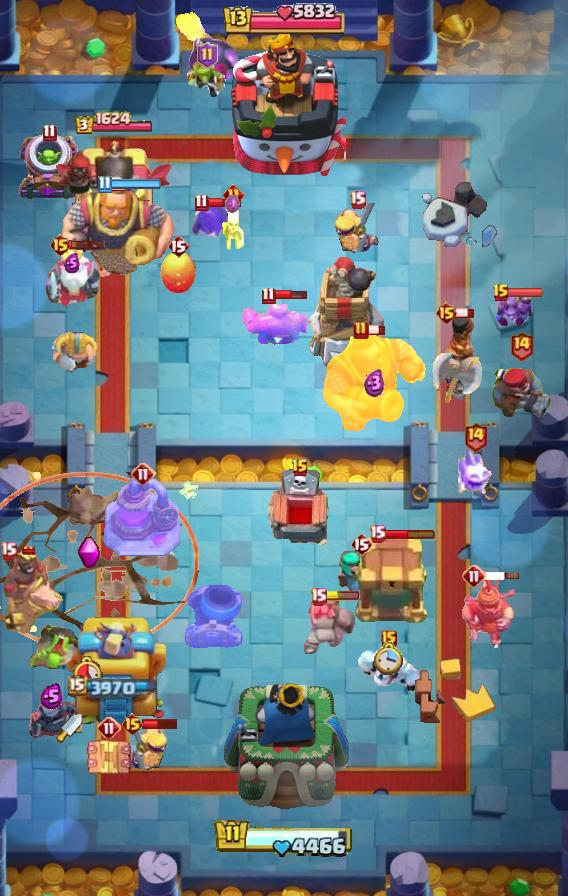axe: (431, 353, 483, 405)
bar: (383, 528, 436, 540), (110, 179, 161, 189), (142, 717, 179, 730), (207, 196, 242, 209), (69, 239, 106, 251), (273, 289, 308, 301), (508, 287, 544, 298), (324, 591, 360, 601), (484, 571, 520, 581), (366, 324, 386, 336), (455, 307, 475, 319)
bar-level: (463, 421, 488, 452), (509, 330, 534, 361), (97, 716, 121, 740), (462, 564, 486, 588), (131, 462, 155, 486), (121, 712, 144, 736), (435, 301, 458, 325), (49, 233, 72, 257), (197, 42, 218, 68), (350, 532, 372, 556), (167, 234, 189, 258), (223, 184, 244, 205), (291, 458, 309, 478), (492, 283, 510, 303), (310, 587, 327, 606), (0, 541, 17, 560), (369, 524, 386, 543), (349, 190, 366, 209), (353, 320, 369, 340), (381, 630, 397, 648), (261, 286, 276, 305), (194, 193, 209, 212), (97, 175, 112, 194), (42, 123, 57, 142)
barbarian-evolution: (121, 720, 169, 772), (333, 203, 381, 255)
bomb: (170, 10, 242, 84)
cannoneer-tower: (53, 138, 175, 256)
clock: (70, 655, 104, 690), (374, 640, 405, 675)
dagger-duchess-tower: (62, 611, 166, 731)
electro-spirit: (192, 201, 234, 241)
elite-barbarian: (51, 330, 99, 373)
elixir: (40, 683, 63, 710), (364, 369, 385, 398), (64, 253, 80, 273), (225, 194, 241, 214)
elixir-golem-mid: (241, 300, 315, 352)
evolution-symbol: (77, 536, 102, 570)
goblin: (186, 57, 228, 101)
goblin-ball: (25, 624, 79, 672)
golemite: (300, 592, 358, 656)
hunter: (489, 365, 553, 419)
ice-spirit-evolution: (455, 446, 495, 498)
king-tower: (220, 678, 349, 826), (222, 31, 346, 181)
king-tower-bar: (214, 818, 354, 859), (221, 0, 347, 40)
mini-pekka: (25, 697, 77, 741)
minion: (493, 291, 531, 329)
mortar: (183, 584, 243, 648)
mortar-evolution: (17, 132, 81, 202)
phoenix-egg: (158, 251, 198, 295)
ram-rider: (438, 310, 482, 396)
rascal-girl: (337, 551, 385, 601)
royal-ghost: (44, 243, 100, 309)
royal-recruit: (461, 574, 516, 648)
skeleton: (218, 207, 248, 253)
tesla: (85, 736, 133, 780)
tower-bar: (68, 675, 160, 698), (74, 111, 154, 136)
